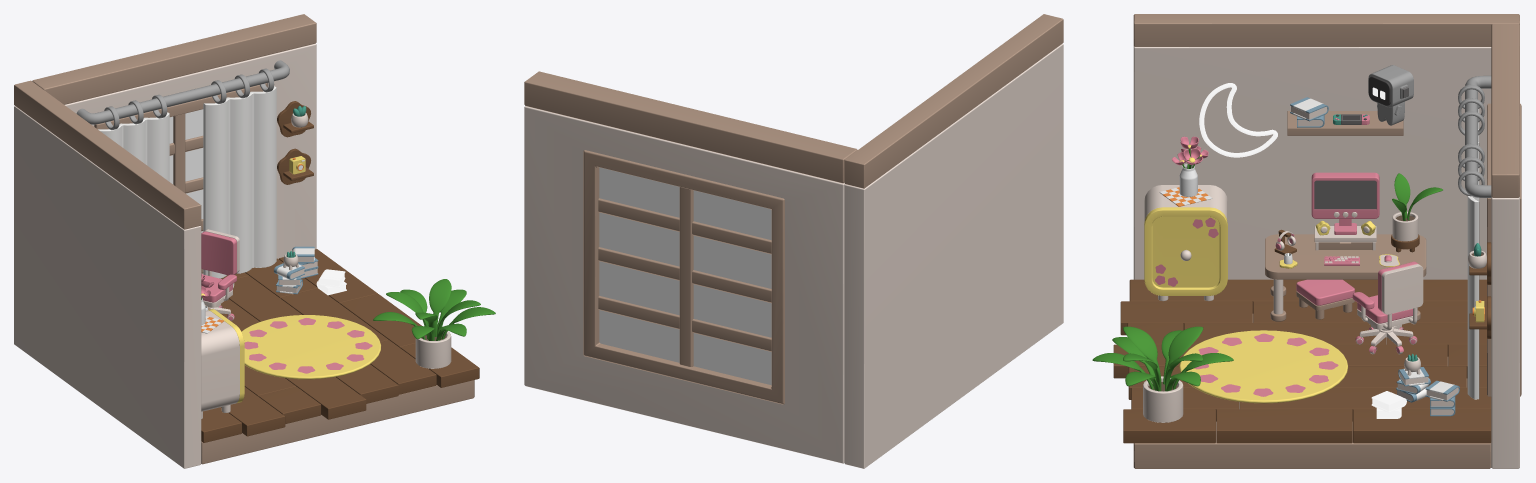
File: Room_4__.glb
3 renders of one model, left to right at view 1: azimuth 30°, elevation 25°; view 2: azimuth 150°, elevation 25°; view 3: azimuth 270°, elevation 25°, orthographic. The views are drawn at different scales.
Visible parts, largest first — view 1: Room_4_Wall_1, Room_4_Floor_2, Room_4_Wall_2, Room_4_Curtains_1, Room_4_Carpet_1, Room_4_Floor_1, Room_4_Plant_2, Room_4_Window_1, Room_4_Cabinet_1, Room_4_Chair_1, Room_4_Books_3, Room_4_Shelf_3 (+3 smaller); view 2: Room_4_Wall_1, Room_4_Wall_2, Room_4_Window_1; view 3: Room_4_Wall_1, Room_4_Floor_2, Room_4_Wall_2, Room_4_Floor_1, Room_4_Carpet_1, Room_4_Cabinet_1, Room_4_Plant_2, Room_4_Curtains_1, Room_4_Table_1, Room_4_Chair_1, Room_4_PC_Monitor_1, Room_4_Toy_Robot_1 (+12 smaller).
Part boxes in pixels (x1,y1,x2,y2): Room_4_Wall_1: (14,80,201,468); Room_4_Floor_2: (201,249,479,442); Room_4_Wall_2: (32,14,316,274); Room_4_Curtains_1: (76,60,289,278); Room_4_Carpet_1: (241,315,381,379); Room_4_Floor_1: (201,380,474,464); Room_4_Plant_2: (373,279,495,368); Room_4_Window_1: (94,83,267,273); Room_4_Cabinet_1: (201,309,244,419); Room_4_Chair_1: (201,229,239,320); Room_4_Books_3: (274,263,304,294); Room_4_Shelf_3: (277,148,313,184); Room_4_Wall_1: (844,14,1063,468); Room_4_Wall_2: (524,71,857,463); Room_4_Window_1: (583,150,784,404); Room_4_Wall_1: (1133,14,1519,279); Room_4_Floor_2: (1113,279,1491,443); Room_4_Wall_2: (1491,24,1519,468); Room_4_Floor_1: (1133,314,1491,468); Room_4_Carpet_1: (1179,330,1347,403); Room_4_Cabinet_1: (1144,185,1227,301); Room_4_Plant_2: (1092,326,1233,422); Room_4_Curtains_1: (1458,75,1491,399); Room_4_Table_1: (1265,234,1426,321); Room_4_Chair_1: (1352,261,1423,354); Room_4_PC_Monitor_1: (1311,172,1379,234); Room_4_Toy_Robot_1: (1368,65,1413,125).
Bounding box in the file's own units: 5.64 × 4.54 × 5.98.
4 materials, 1 textured.
